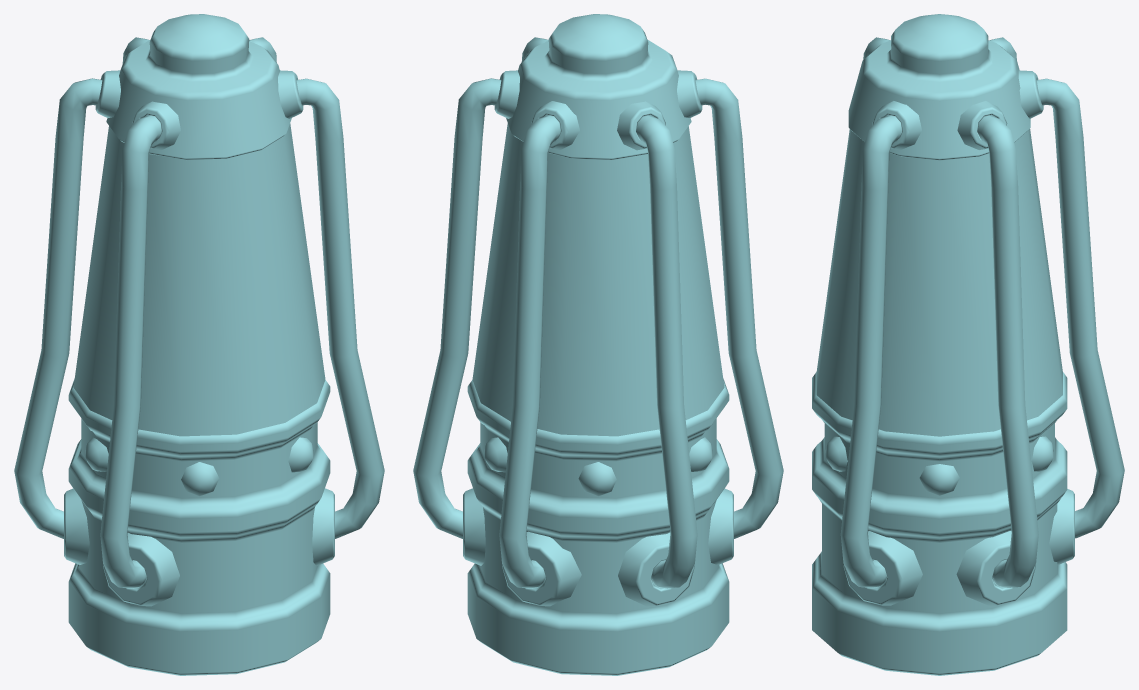
File: NuclearCell.fbx
3 renders of one model, left to right at view 1: azimuth 30°, elevation 25°; view 2: azimuth 150°, elevation 25°; view 3: azimuth 270°, elevation 25°, orthographic.
Parts seen in each view (by area): view 1: MSH_Body, MSH_Cover, MSH_HandRails, MSH_Connectors, MSH_Rivets; view 2: MSH_Body, MSH_HandRails, MSH_Cover, MSH_Connectors, MSH_Rivets; view 3: MSH_Body, MSH_Cover, MSH_HandRails, MSH_Connectors, MSH_Rivets.
Part boxes in pixels (x1=…): MSH_Body: x1=68, y1=14, x2=330, y2=675; MSH_Cover: x1=73, y1=123, x2=325, y2=436; MSH_HandRails: x1=14, y1=37, x2=384, y2=588; MSH_Connectors: x1=64, y1=41, x2=334, y2=606; MSH_Rivets: x1=85, y1=437, x2=313, y2=496; MSH_Body: x1=467, y1=14, x2=729, y2=675; MSH_HandRails: x1=413, y1=37, x2=783, y2=588; MSH_Cover: x1=472, y1=123, x2=724, y2=436; MSH_Connectors: x1=463, y1=41, x2=733, y2=606; MSH_Rivets: x1=484, y1=437, x2=712, y2=496; MSH_Body: x1=812, y1=14, x2=1067, y2=675; MSH_Cover: x1=816, y1=129, x2=1062, y2=436; MSH_HandRails: x1=840, y1=37, x2=1124, y2=587; MSH_Connectors: x1=843, y1=70, x2=1074, y2=605; MSH_Rivets: x1=825, y1=436, x2=1053, y2=495.
Bounding box in the file's own units: 43.99 × 90.3 × 42.54.
